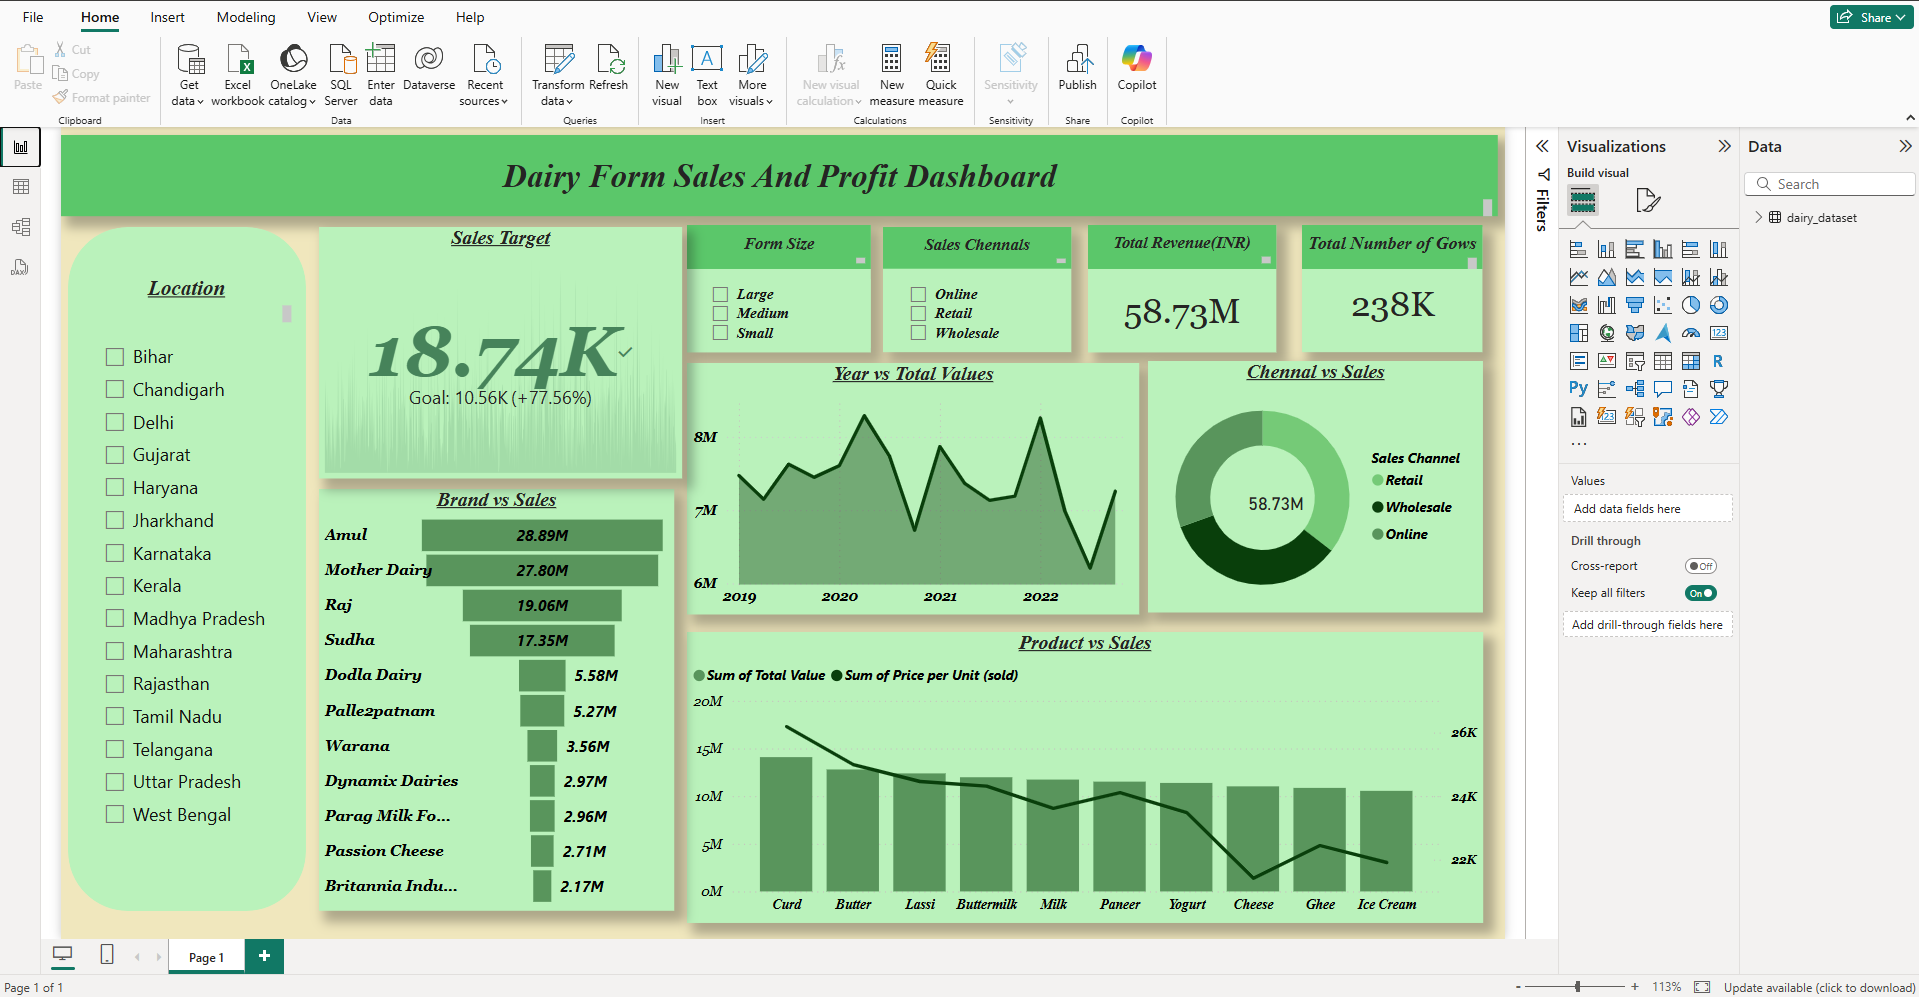

What the dashboard file says about the page in this screenshot:
{"tool":"powerbi","page":{"name":"Page 1","canvas":[1280,720],"ordinal":0},"visuals":[{"type":"textbox","title":"Dairy Form Sales And Profit Dashboard","box":[0,7.1,1274.2,71.8],"z":0},{"type":"textbox","box":[1100.5,88.7,160.5,110.8],"z":1000},{"type":"textbox","box":[554.9,86.9,163.2,112.6],"z":2000},{"type":"textbox","box":[728.7,88.7,166.7,110.8],"z":3000},{"type":"textbox","box":[910.5,86.9,166.7,112.6],"z":4000},{"type":"textbox","title":"Form Size","box":[554.9,86.9,163.2,39],"z":5000},{"type":"textbox","title":"Sales Chennals","box":[728.7,88.7,166.7,37.2],"z":6000},{"type":"textbox","title":"Total Revenue(INR)","box":[910.5,86.9,166.7,39],"z":7000},{"type":"card","fields":{"Values":["Sum(dairy_dataset.Number of Cows)"]},"box":[1135,128.6,91.3,55],"z":8000},{"type":"slicer","fields":{"Values":["dairy_dataset.Farm Size"]},"box":[564.8,134.8,153.4,61.2],"z":9000},{"type":"slicer","fields":{"Values":["dairy_dataset.Sales Channel"]},"box":[740.3,134.8,142.8,61.2],"z":10000},{"type":"card","fields":{"Values":["Sum(dairy_dataset.Approx. Total Revenue(INR))"]},"box":[919.4,133,149,58.5],"z":11000},{"type":"textbox","title":"Total Number of Gows","box":[1100.4,86.9,160.5,39],"z":12000},{"type":"stackedAreaChart","title":"Year vs Total Values","fields":{"Category":["dairy_dataset.Date.Variation.Date Hierarchy.Year","dairy_dataset.Date.Variation.Date Hierarchy.Quarter","dairy_dataset.Date.Variation.Date Hierarchy.Month","dairy_dataset.Date.Variation.Date Hierarchy.Day"],"Y":["Sum(dairy_dataset.Total Value)"]},"box":[555.1,209.3,400.8,223.4],"z":13000},{"type":"donutChart","title":"Chennal vs Sales","fields":{"Category":["dairy_dataset.Sales Channel"],"Y":["Sum(dairy_dataset.Total Value)"]},"box":[963.8,207.5,297,223.4],"z":14000},{"type":"lineClusteredColumnComboChart","title":"Product vs Sales","fields":{"Category":["dairy_dataset.Product Name"],"Y":["Sum(dairy_dataset.Total Value)"],"Y2":["Sum(dairy_dataset.Price per Unit (sold))"]},"box":[555.1,447.8,705.8,258],"z":15000},{"type":"card","fields":{"Values":["Sum(dairy_dataset.Approx. Total Revenue(INR))"]},"box":[1045.4,319.2,63,23.1],"z":16000},{"type":"funnel","title":"Brand vs Sales","fields":{"Category":["dairy_dataset.Brand"],"Y":["Sum(dairy_dataset.Total Value)"]},"box":[228.8,321,314.8,374.2],"z":17000},{"type":"kpi","title":"Sales Target","fields":{"Indicator":["Sum(dairy_dataset.Total Value)"],"TrendLine":["dairy_dataset.Price per Unit (sold)"],"Goal":["Sum(dairy_dataset.Approx. Total Revenue(INR))"]},"box":[228.8,88.7,321.9,223.4],"z":18000},{"type":"shape","box":[6.2,88.7,211,606.5],"z":18001},{"type":"slicer","fields":{"Values":["dairy_dataset.Location"]},"box":[26.6,183.5,169.4,468.2],"z":18002},{"type":"textbox","title":"Location","box":[13.3,116.2,196,56.7],"z":18003}]}

Visuals, with their boxes on the page's 1280x720 design canvas (x1, y1, x2, y2). These are canvas units, not pixel positions in the 1919x997 screenshot, which may show the page scaled, cropped or inside an application window:
"Dairy Form Sales And Profit Dashboard" textbox: <region>0, 7, 1274, 79</region>
textbox: <region>1100, 89, 1261, 200</region>
textbox: <region>555, 87, 718, 200</region>
textbox: <region>729, 89, 895, 200</region>
textbox: <region>910, 87, 1077, 200</region>
"Form Size" textbox: <region>555, 87, 718, 126</region>
"Sales Chennals" textbox: <region>729, 89, 895, 126</region>
"Total Revenue(INR)" textbox: <region>910, 87, 1077, 126</region>
card - Sum(dairy_dataset.Number of Cows): <region>1135, 129, 1226, 184</region>
slicer - dairy_dataset.Farm Size: <region>565, 135, 718, 196</region>
slicer - dairy_dataset.Sales Channel: <region>740, 135, 883, 196</region>
card - Sum(dairy_dataset.Approx. Total Revenue(INR)): <region>919, 133, 1068, 192</region>
"Total Number of Gows" textbox: <region>1100, 87, 1261, 126</region>
"Year vs Total Values" stackedAreaChart: <region>555, 209, 956, 433</region>
"Chennal vs Sales" donutChart: <region>964, 208, 1261, 431</region>
"Product vs Sales" lineClusteredColumnComboChart: <region>555, 448, 1261, 706</region>
card - Sum(dairy_dataset.Approx. Total Revenue(INR)): <region>1045, 319, 1108, 342</region>
"Brand vs Sales" funnel: <region>229, 321, 544, 695</region>
"Sales Target" kpi: <region>229, 89, 551, 312</region>
shape: <region>6, 89, 217, 695</region>
slicer - dairy_dataset.Location: <region>27, 184, 196, 652</region>
"Location" textbox: <region>13, 116, 209, 173</region>
